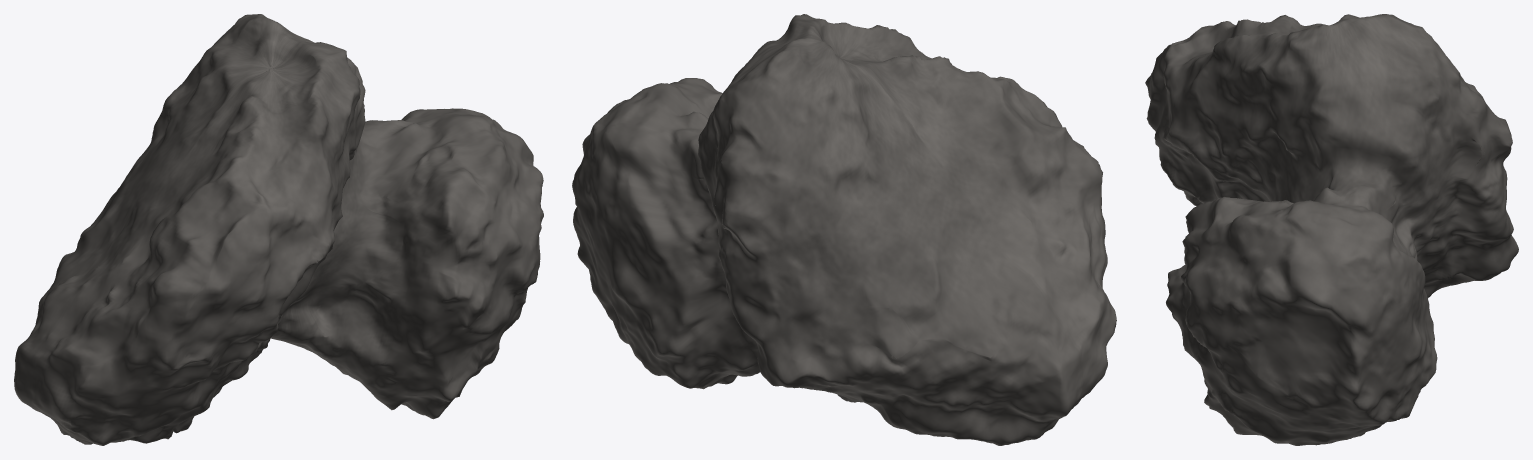
The picture shows the model from 3 angles, left to right: view 1: azimuth 30°, elevation 25°; view 2: azimuth 150°, elevation 25°; view 3: azimuth 270°, elevation 25°; orthographic projection. The views are drawn at different scales.
Parts seen in each view (by area): view 1: ChuryumovGerasimenko; view 2: ChuryumovGerasimenko; view 3: ChuryumovGerasimenko.
Boxes of the visible parts, <box> form: ChuryumovGerasimenko: <box>14,14,543,445</box>; ChuryumovGerasimenko: <box>572,14,1116,445</box>; ChuryumovGerasimenko: <box>1145,14,1518,445</box>.
Bounding box in the file's own units: 5.06 × 3.71 × 3.31.
1 material, 1 textured.
